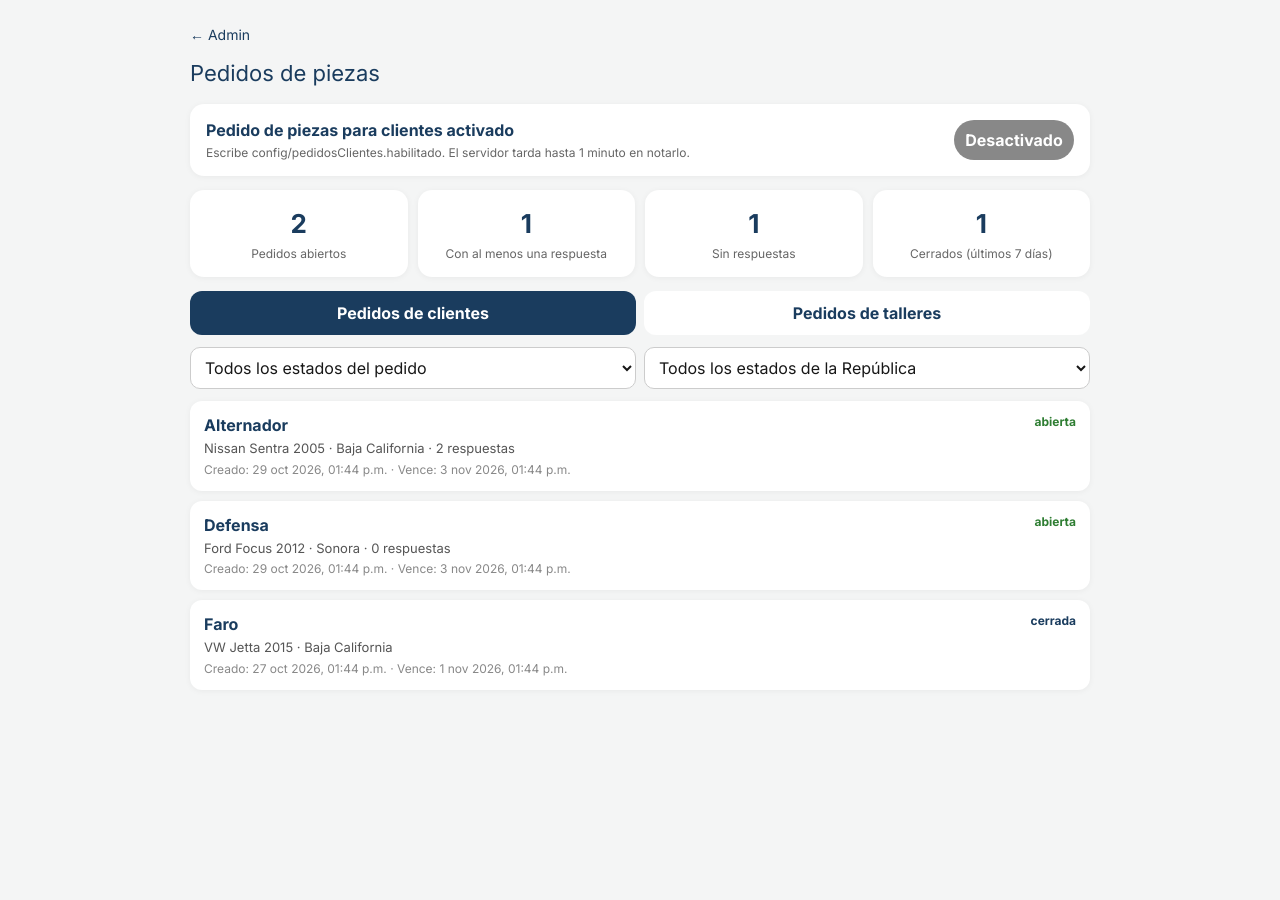
Test case: panel admin "Pedidos de piezas" › un pedido cerrado solo ofrece reabrir o borrar
Step 1. Click the text "Faro" → click(221, 624), box [204,612,238,636]
(page scrolled)
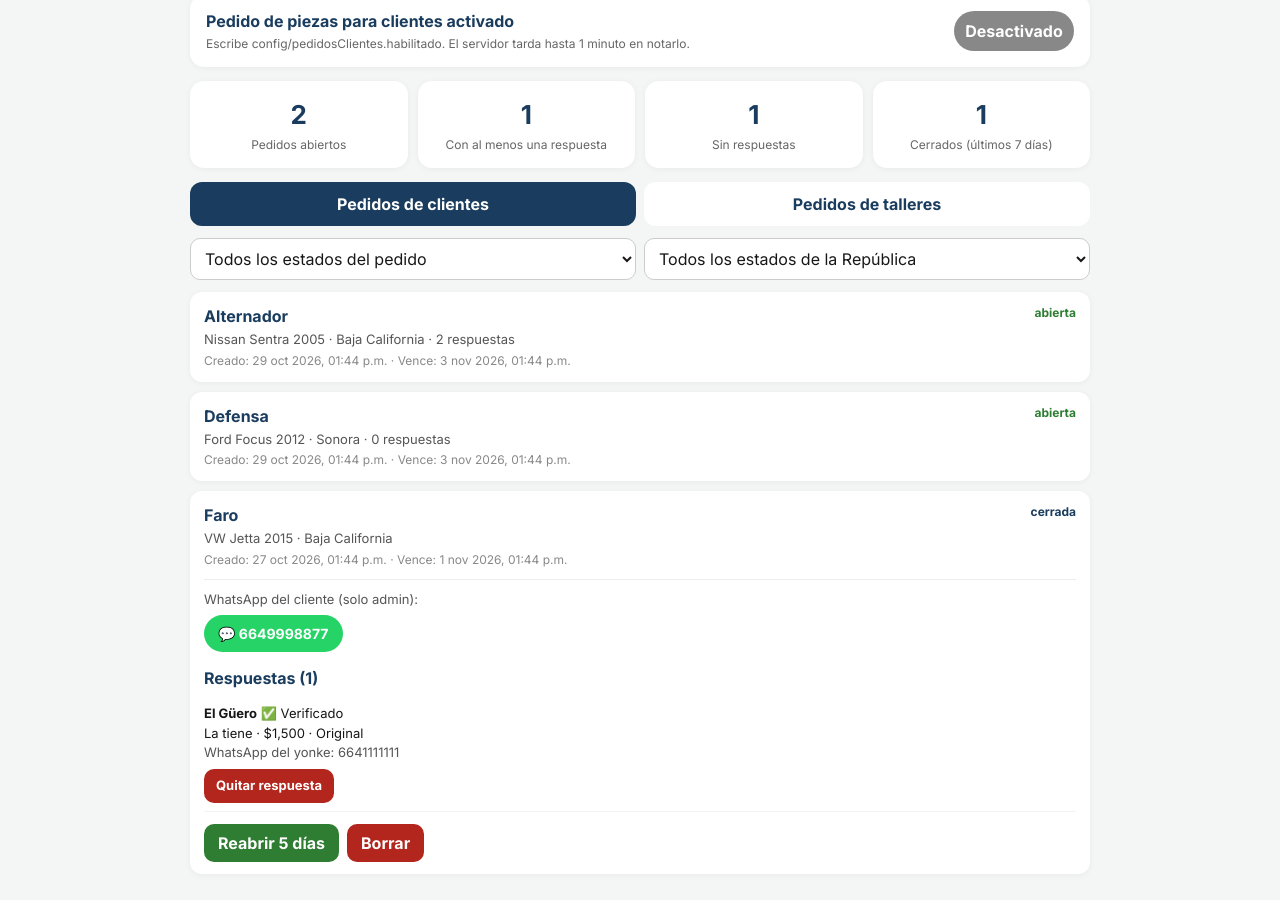
expect the button "Reabrir 5 días" is shown: met, box [204,824,339,862]
